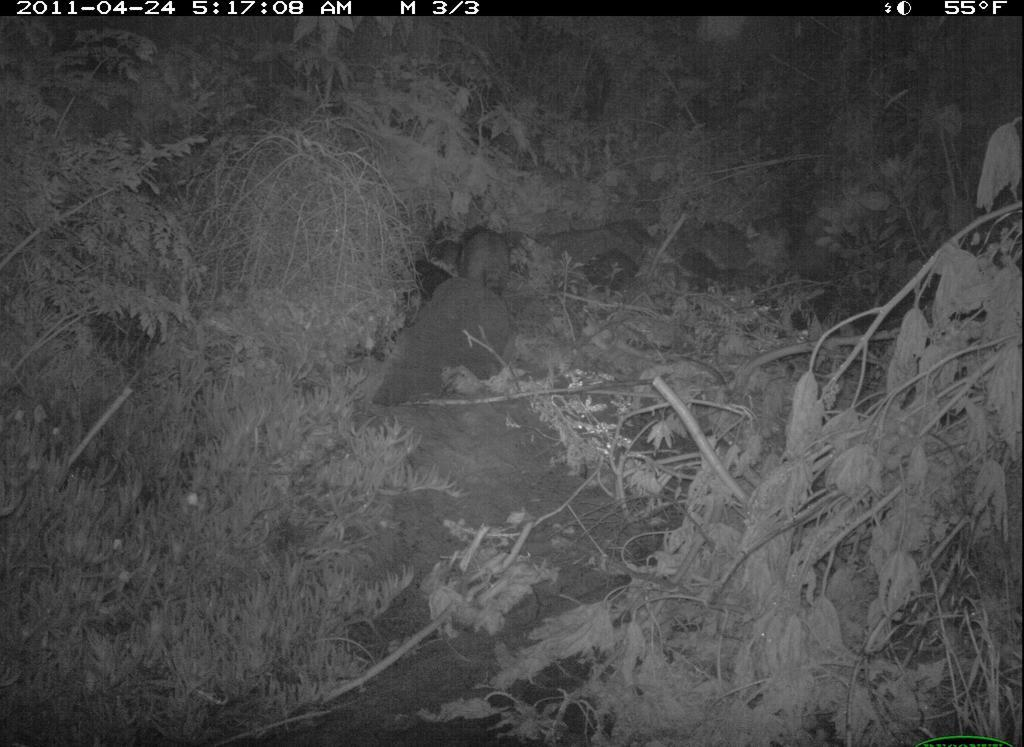raccoon: (438, 221, 518, 314)
